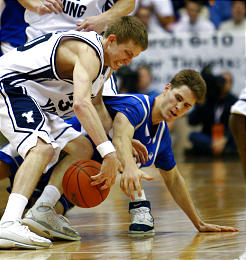basketball: (62, 159, 110, 208)
